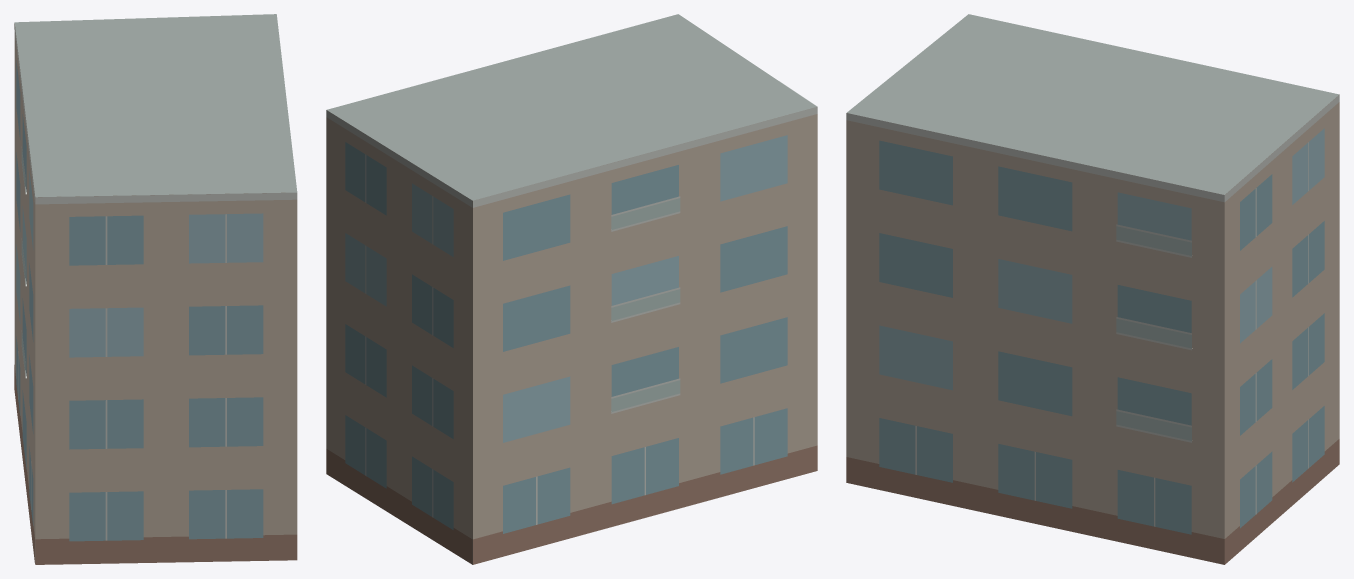
The model's file is survey-upis-32734752.glb.
3 views of the same model, side by side, from view 1: azimuth 30°, elevation 25°; view 2: azimuth 150°, elevation 25°; view 3: azimuth 270°, elevation 25° (orthographic).
Parts seen in each view (by area): view 1: survey-upis-32734752.tmp; view 2: survey-upis-32734752.tmp; view 3: survey-upis-32734752.tmp.
Part boxes in pixels (bbox=[...]): survey-upis-32734752.tmp: bbox=[14, 14, 297, 564]; survey-upis-32734752.tmp: bbox=[326, 14, 817, 564]; survey-upis-32734752.tmp: bbox=[846, 14, 1339, 564].
Size of the model in its own units: 13.02 by 12.4 by 14.99.
